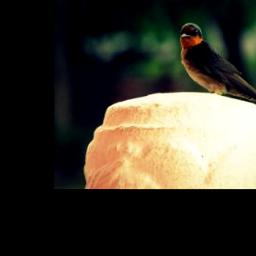Swallow: (178, 20, 256, 113)
